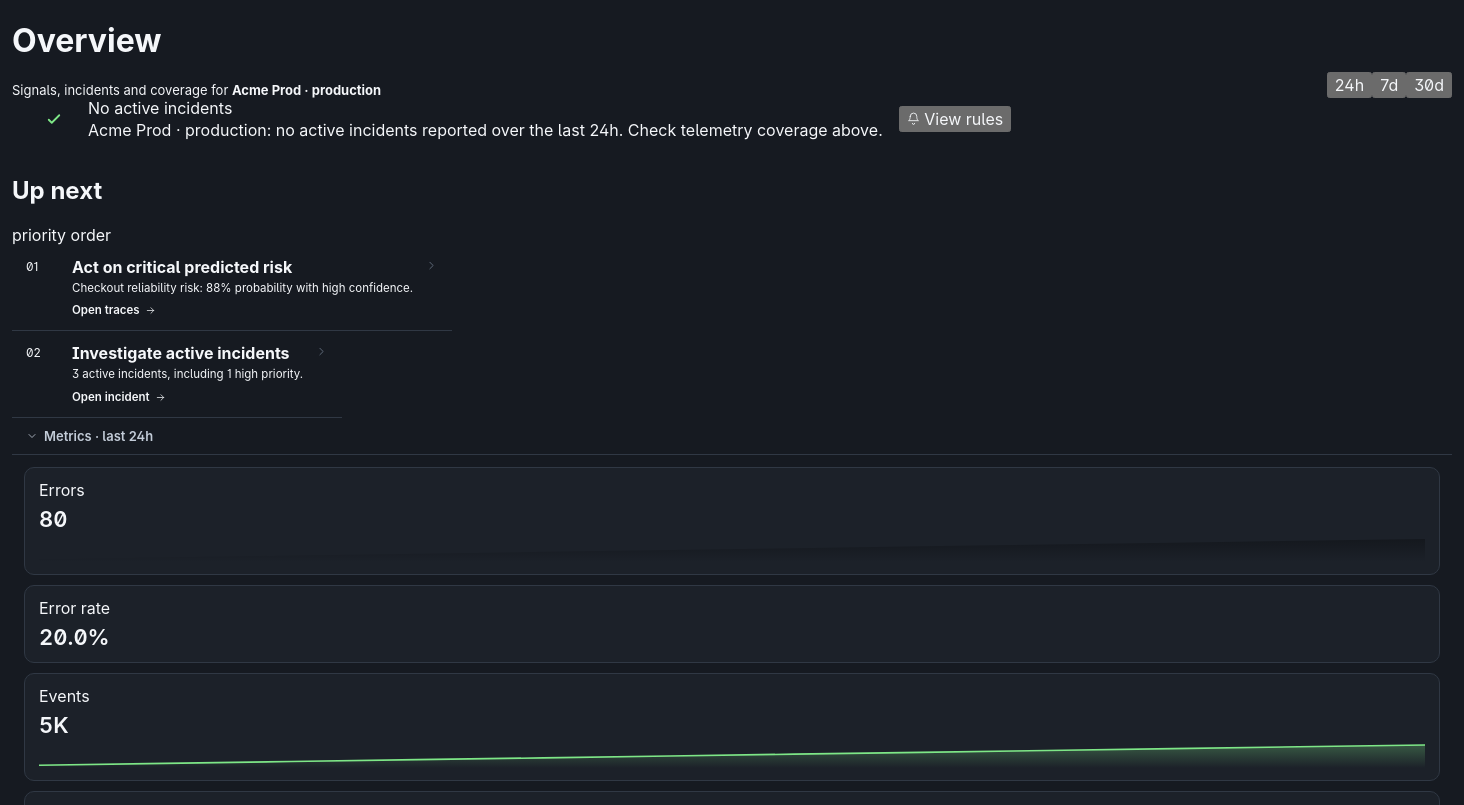
Test case: OverviewScreen › attention zone › all-clear banner reflects selected window
The image size is (1464, 805).
Expected: the text "over the last 24h" is shown, [88, 120, 883, 140]
Click the button "7d": [1389, 85] box [1372, 72, 1406, 98]
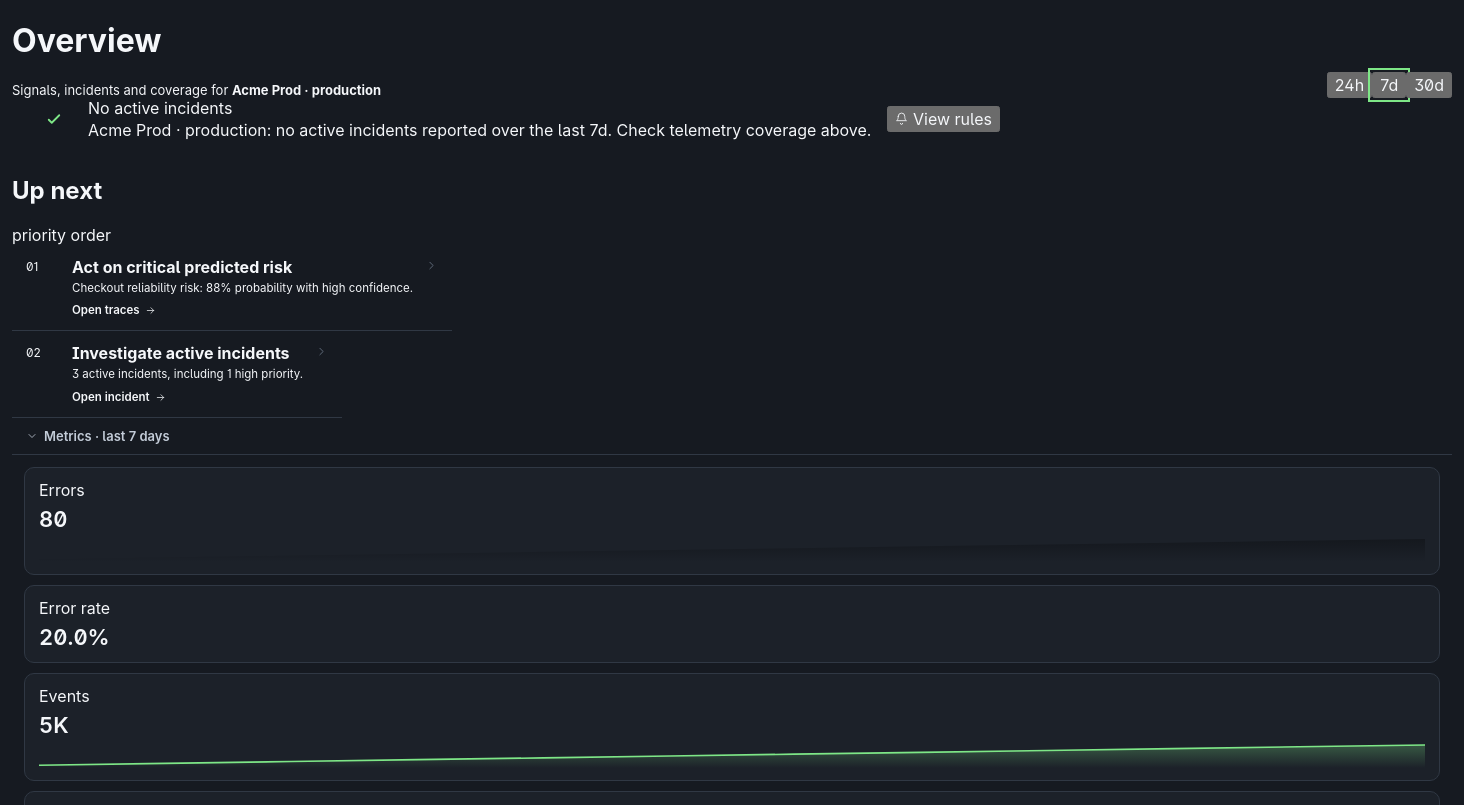
Result: the text "over the last 7d" is shown at [88, 120, 872, 140]
Result: the text "over the last 24h" is gone
